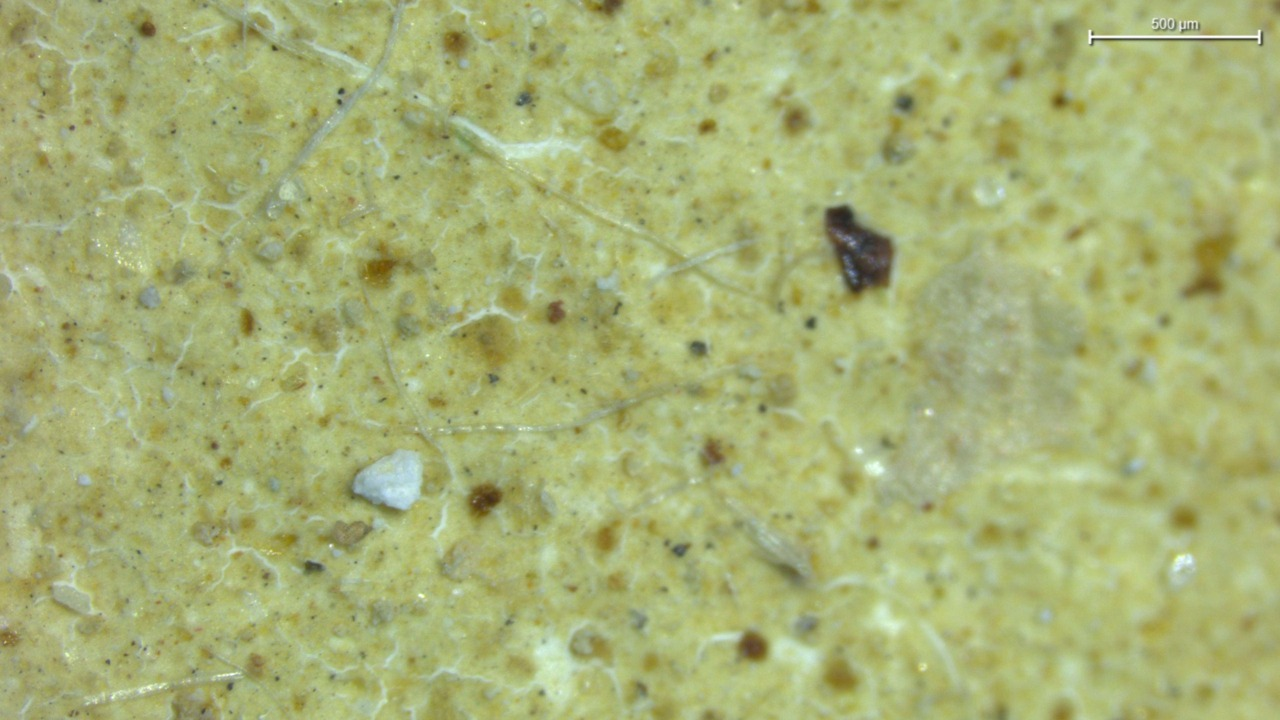microplastic_fragment: (352, 449, 423, 510)
